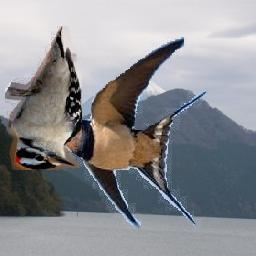Swallow: (62, 37, 209, 229)
Woodpecker: (6, 26, 83, 170)
